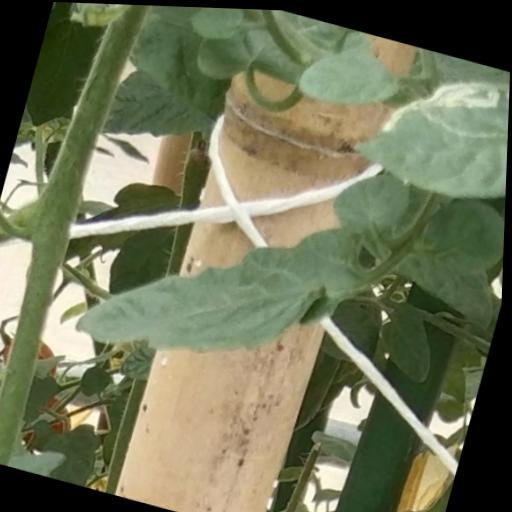Healthy: (68, 157, 375, 401), (294, 32, 406, 116)
Leaf_Miner: (339, 38, 511, 213)
